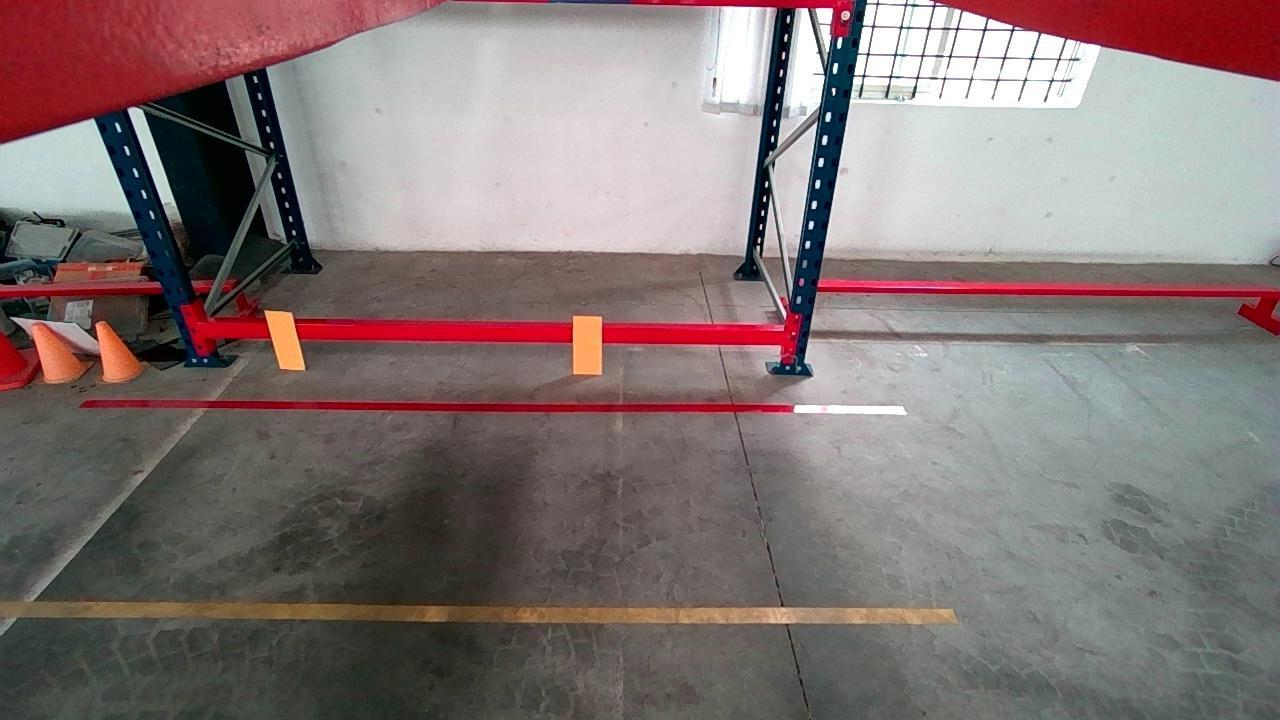h_rack: (203, 321, 787, 346)
orange_strip: (262, 310, 306, 368), (573, 316, 601, 373)
red_line: (80, 397, 909, 414)
yellow_line: (0, 601, 962, 622)
